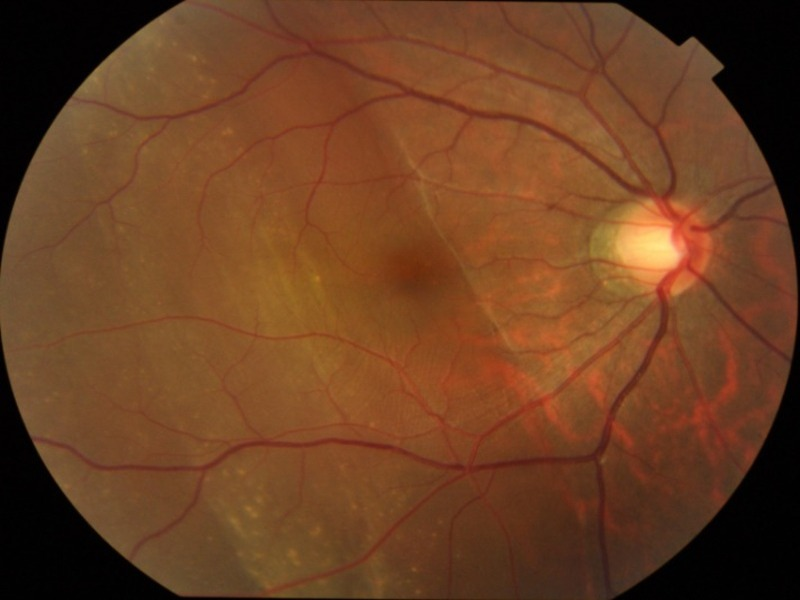Optic Cup: (618, 217, 683, 276)
Optic Disc: (588, 192, 714, 301)
